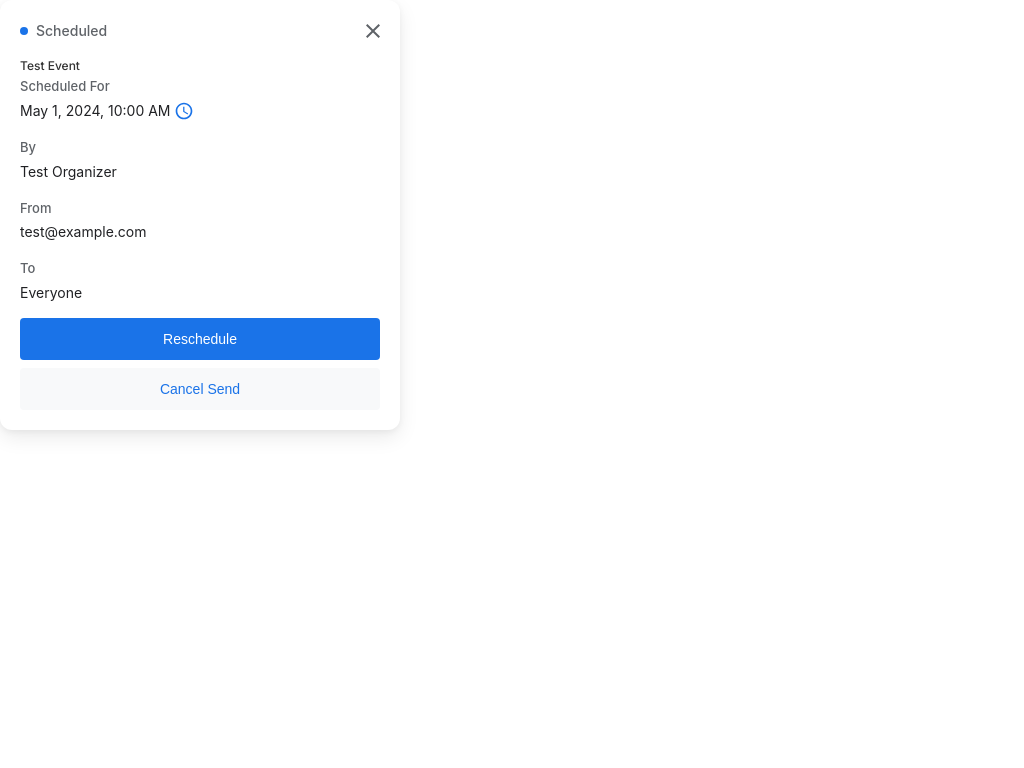
Scenario: EventCard › shows reschedule modal when time button is clicked
Step 1. Click the button with class "time-button" → coordinates (184, 111), box [172,99,196,123]
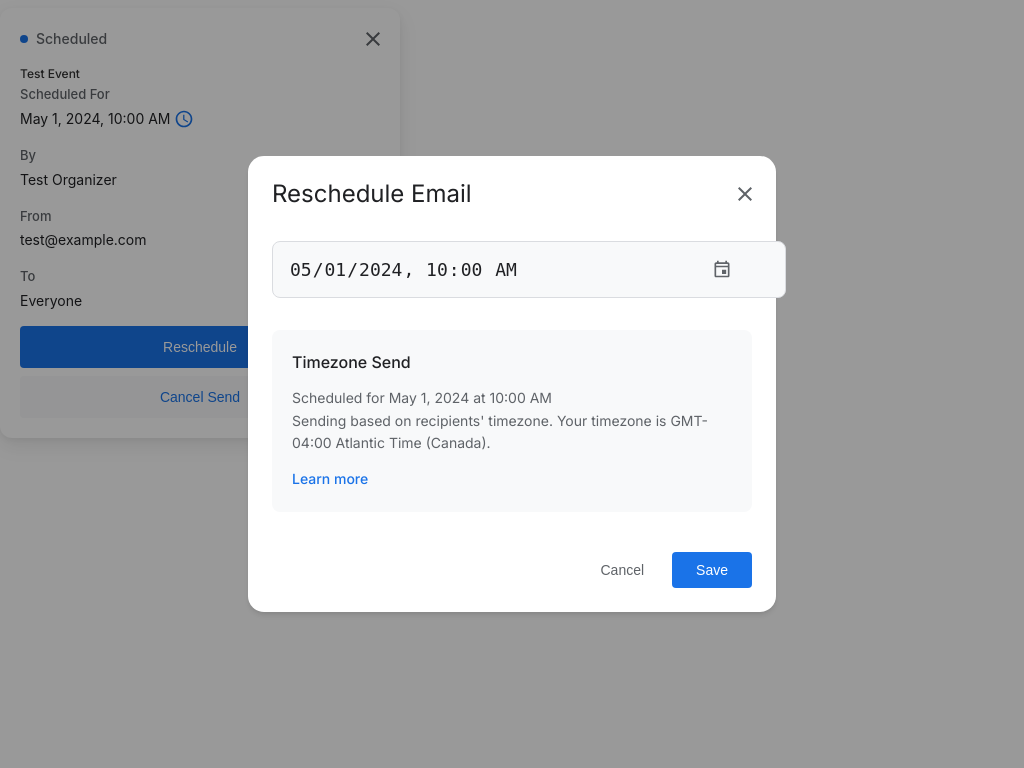
Check: the element that starts with "Reschedule Email" is shown
